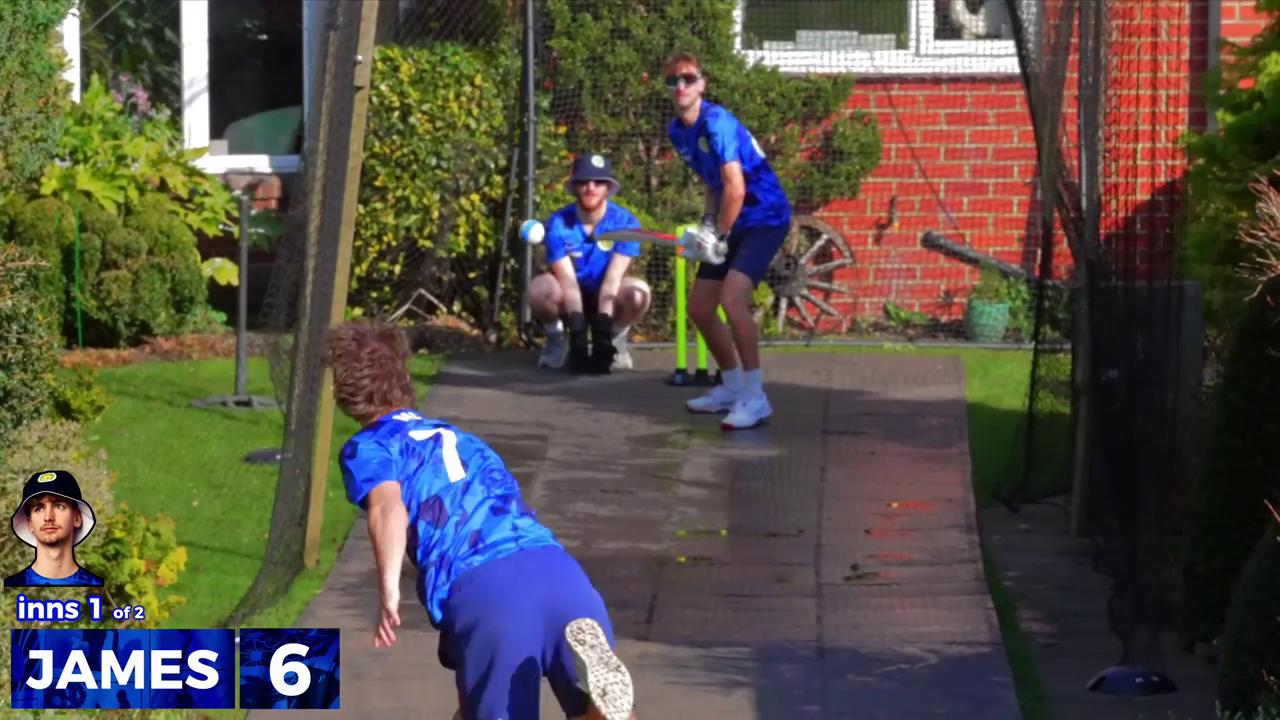ball: (510, 203, 554, 254)
